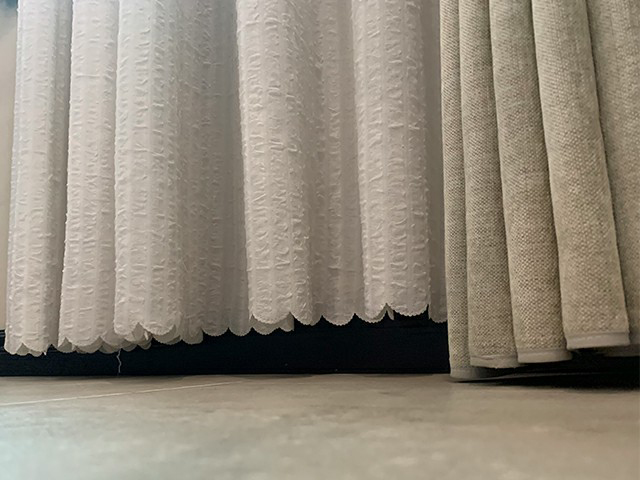curtain: (4, 1, 445, 356), (448, 1, 640, 380)
